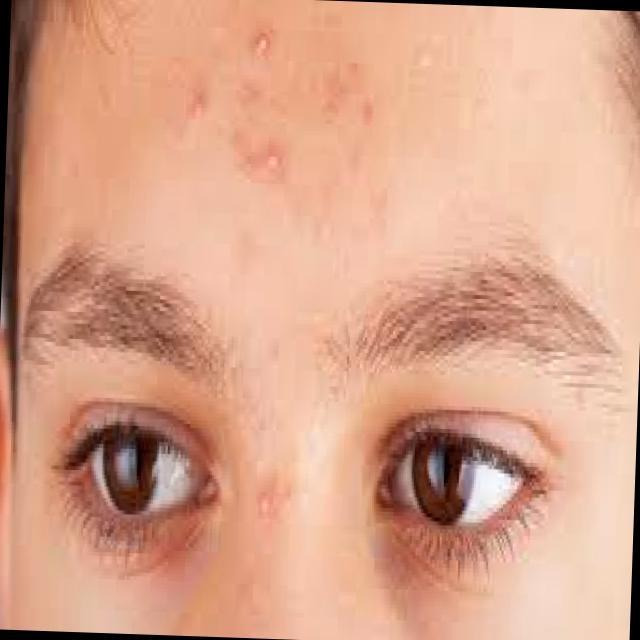Eczema: (168, 13, 389, 181)
